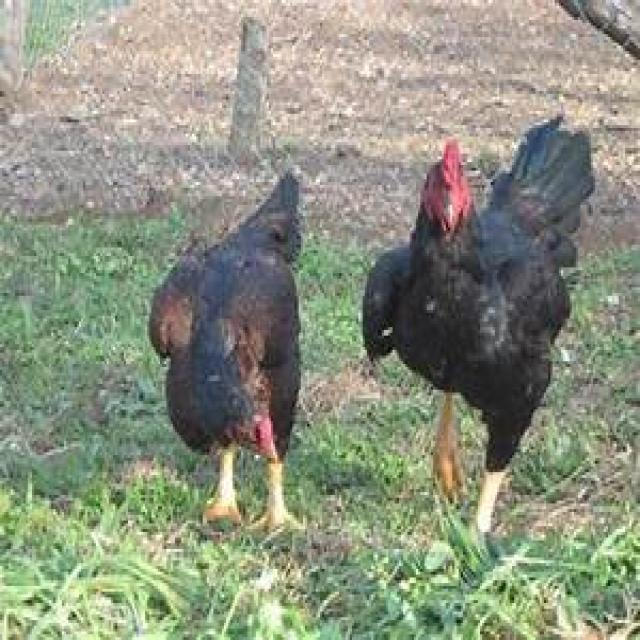hen: (361, 119, 597, 538), (149, 171, 303, 532)
